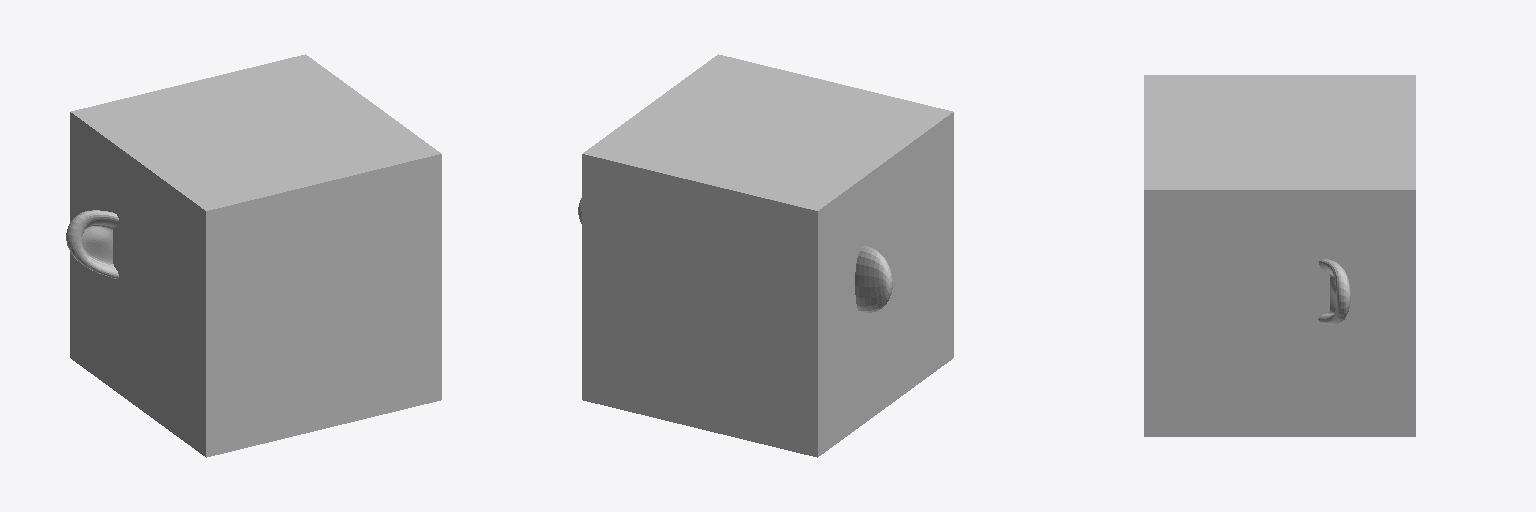
3 views of the same model, side by side, from view 1: azimuth 30°, elevation 25°; view 2: azimuth 150°, elevation 25°; view 3: azimuth 270°, elevation 25° (orthographic).
Visible parts, largest first — view 1: Cube.001, Suzanne; view 2: Cube.001, Suzanne; view 3: Cube.001, Suzanne.
Part boxes in pixels (bbox=[...]): Cube.001: bbox=[70, 54, 441, 457]; Suzanne: bbox=[66, 210, 118, 278]; Cube.001: bbox=[582, 54, 953, 457]; Suzanne: bbox=[578, 198, 892, 312]; Cube.001: bbox=[1144, 75, 1415, 436]; Suzanne: bbox=[1318, 259, 1350, 324].
Size of the model in its own units: 2.66 by 2 by 2.